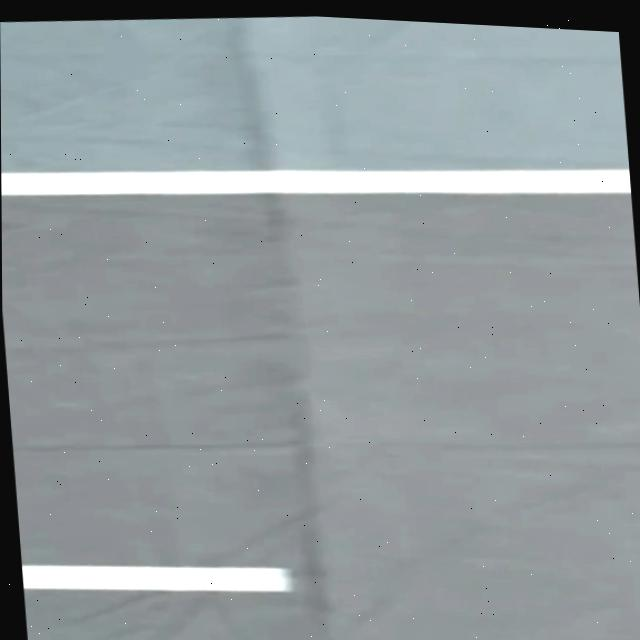center: (20, 565, 292, 591)
left: (1, 168, 631, 193)
